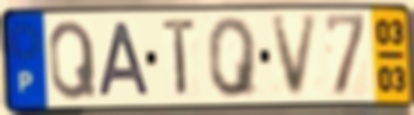7: (324, 11, 369, 100)
A: (96, 19, 153, 100)
Q: (205, 14, 261, 100), (46, 17, 100, 103)
T: (160, 15, 200, 101)
V: (268, 12, 322, 101)
